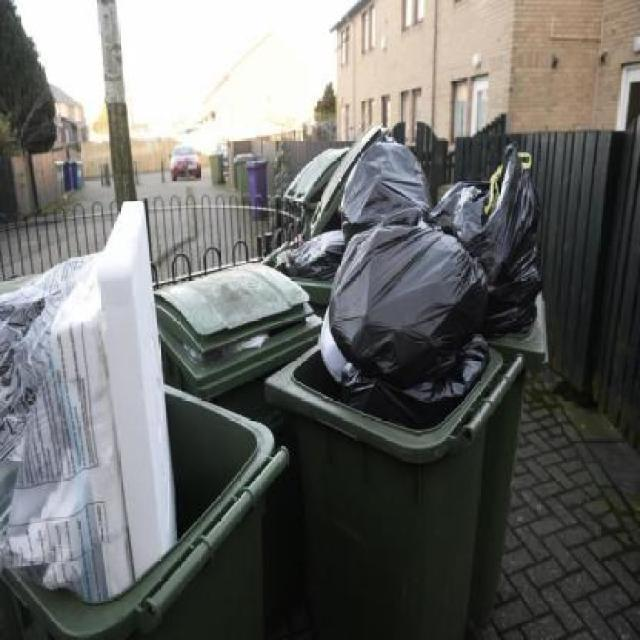garbage: (288, 136, 532, 392)
